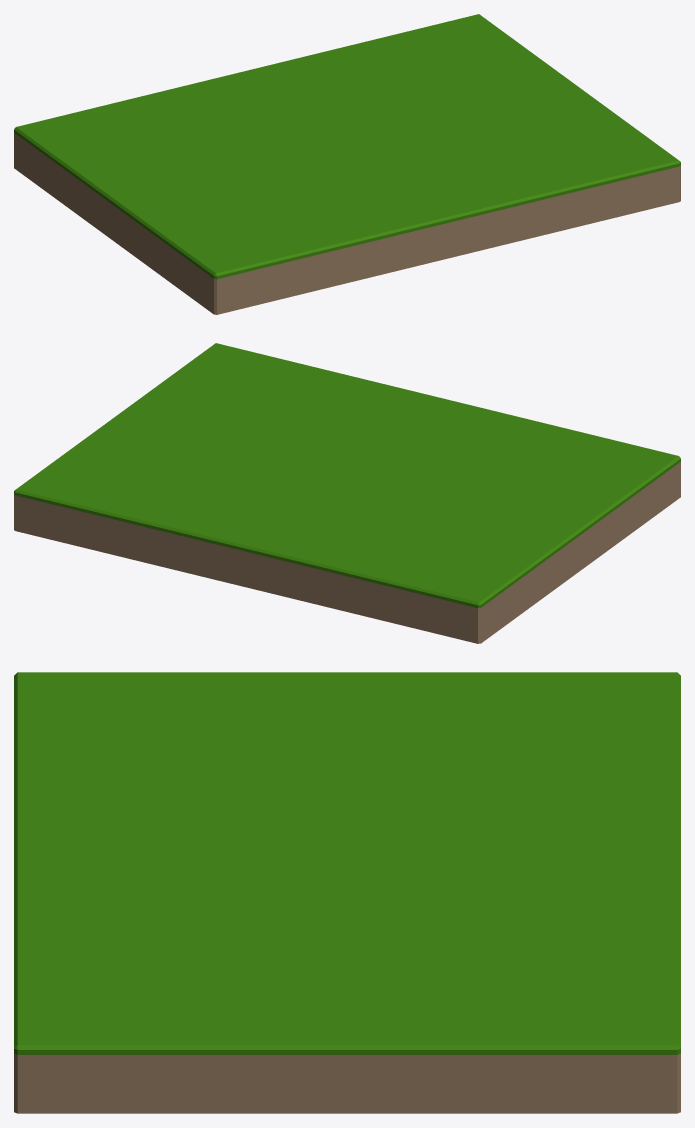
The model's file is Muntanya 3.fbx.
The picture shows the model from 3 angles, top to bottom: view 1: azimuth 30°, elevation 25°; view 2: azimuth 150°, elevation 25°; view 3: azimuth 270°, elevation 25°; orthographic projection. The views are drawn at different scales.
Visible parts, largest first — view 1: Cube.014; view 2: Cube.014; view 3: Cube.014.
Boxes of the visible parts, x1,y1,x2,y2 form: Cube.014: (14, 14, 680, 314); Cube.014: (14, 343, 680, 643); Cube.014: (14, 672, 680, 1113).
Bounding box in the file's own units: 120 × 10 × 90.
